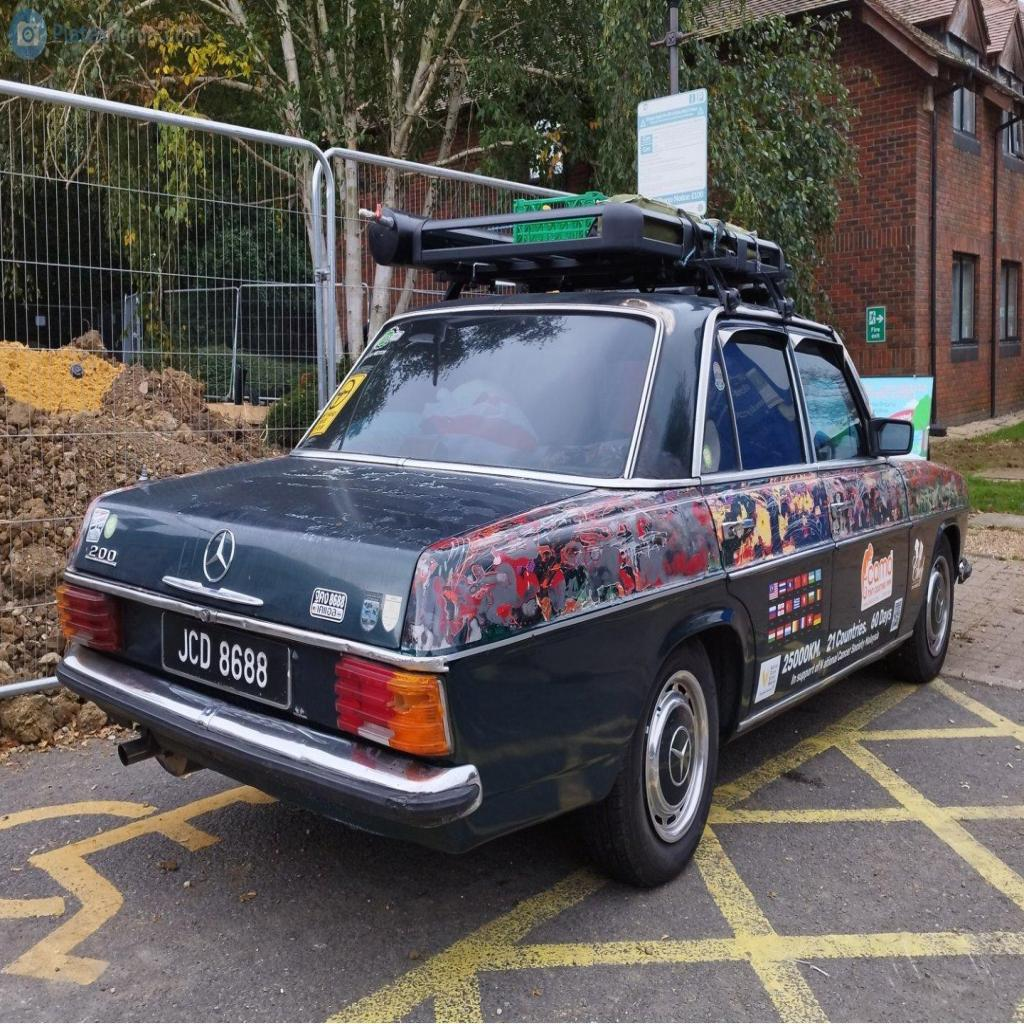car: (57, 203, 968, 885), (553, 224, 557, 227)
car plate: (161, 613, 289, 705)
